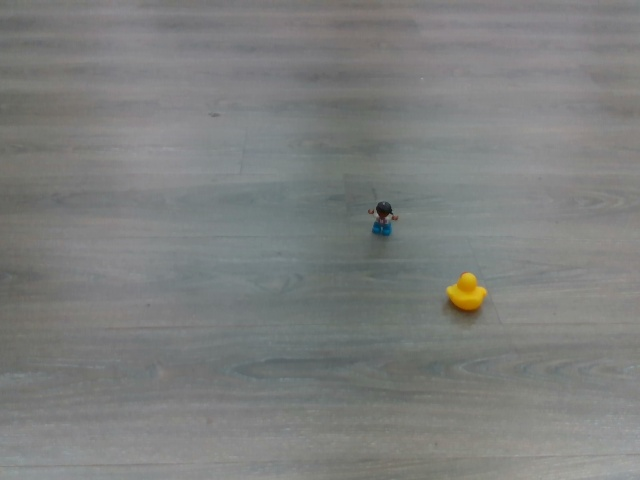duck: (443, 271, 490, 314)
people: (364, 197, 400, 240)
